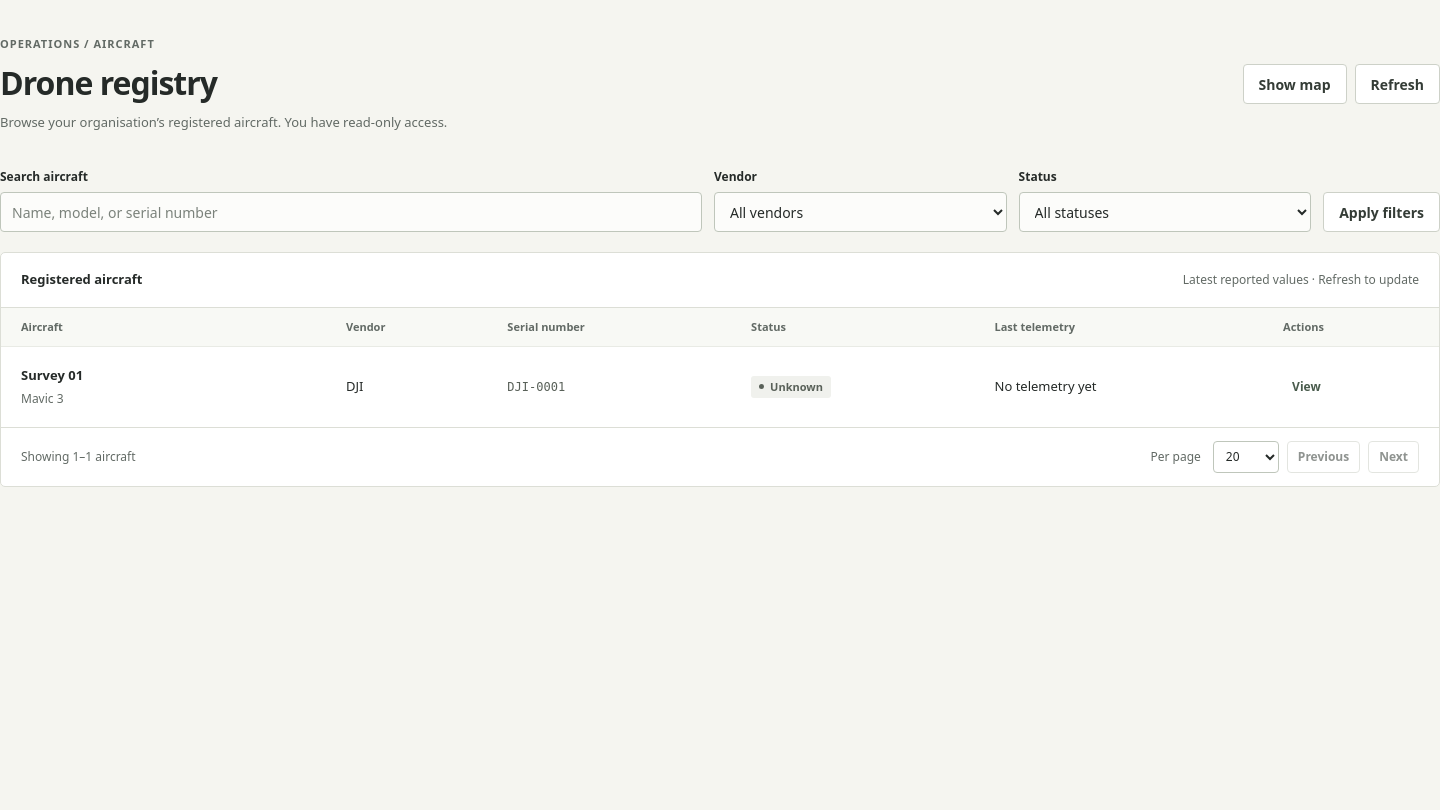
drone registry › gives read-only users details without mutation controls
expect the text "Survey 01" is shown: met, box [21,366,83,384]
Step 1. Click the button with aria-label "View details for Survey 01" → (1306, 387), box [1283,370,1330,404]
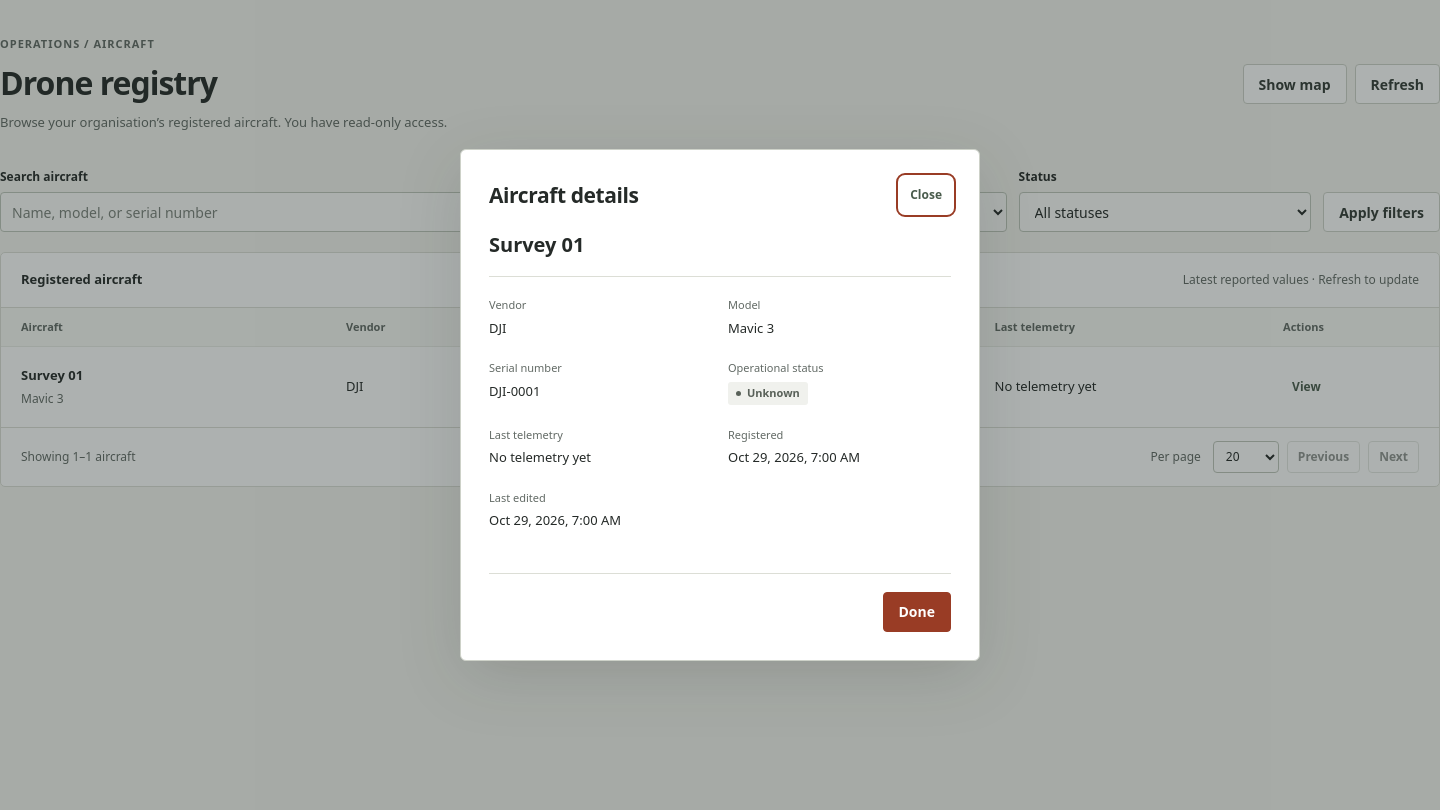
expect the text "DJI-0001" is shown: met, box [489,382,540,400]
